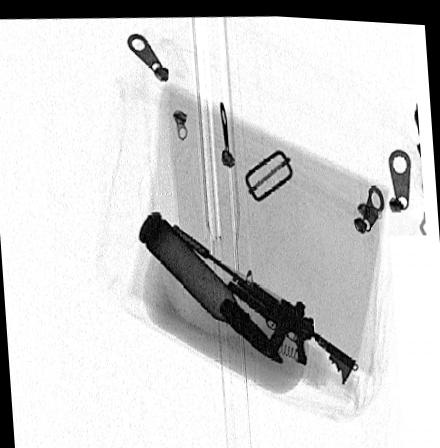Bullet: (139, 208, 283, 360)
Gun: (171, 221, 356, 381)
